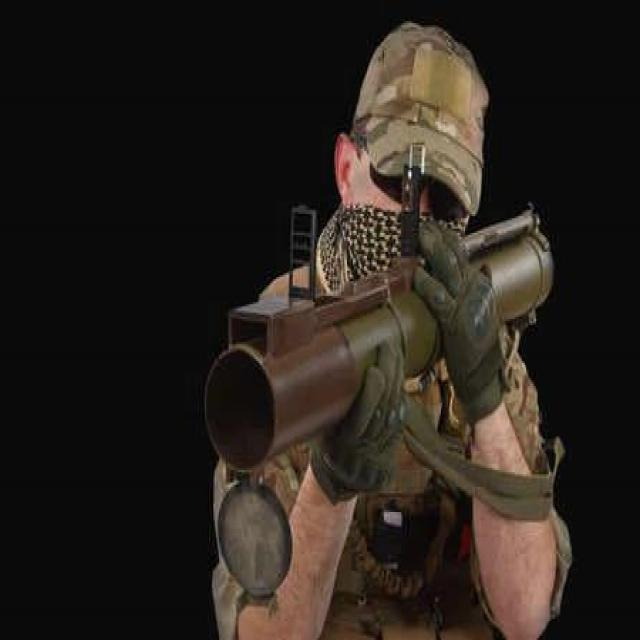rocket: (209, 209, 552, 479)
